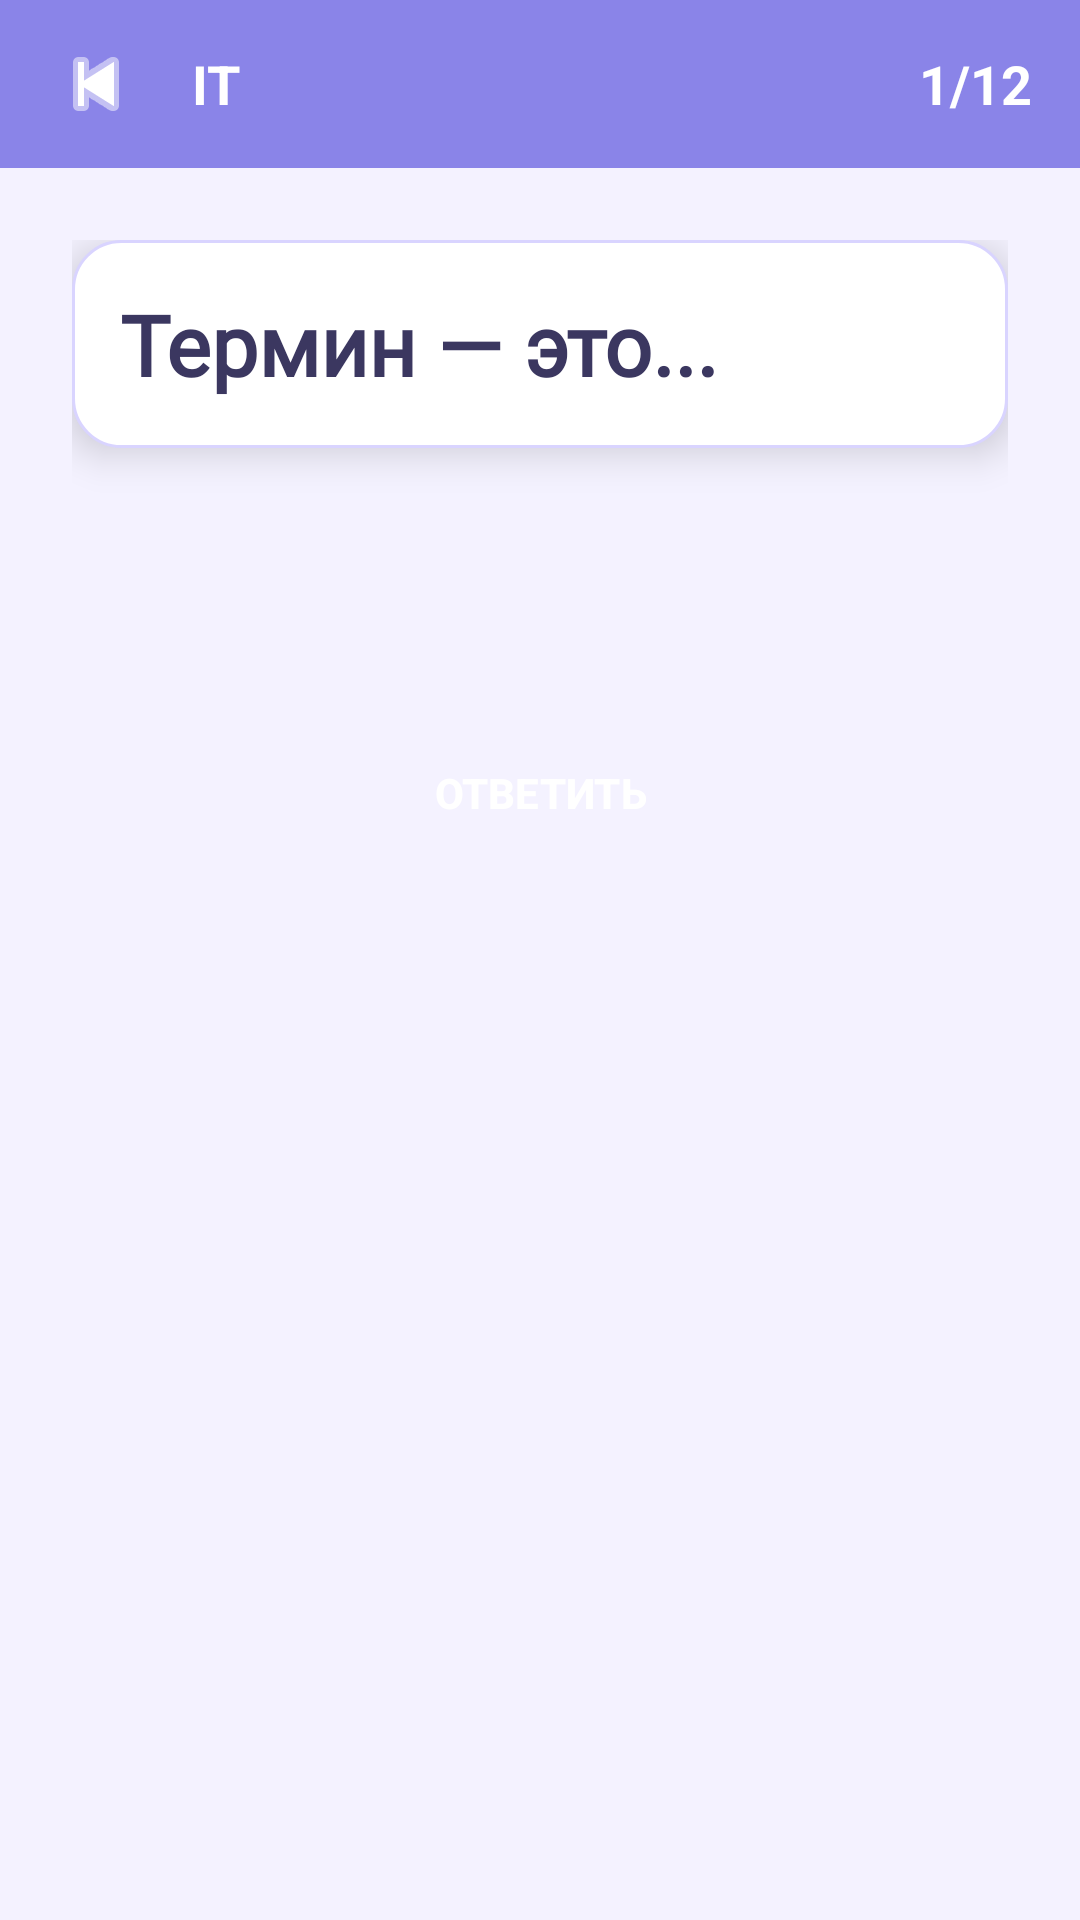

Point at icon controls on the screen. Image size 1080px x 1920px, points as [x,y].
previous: [96,84]
